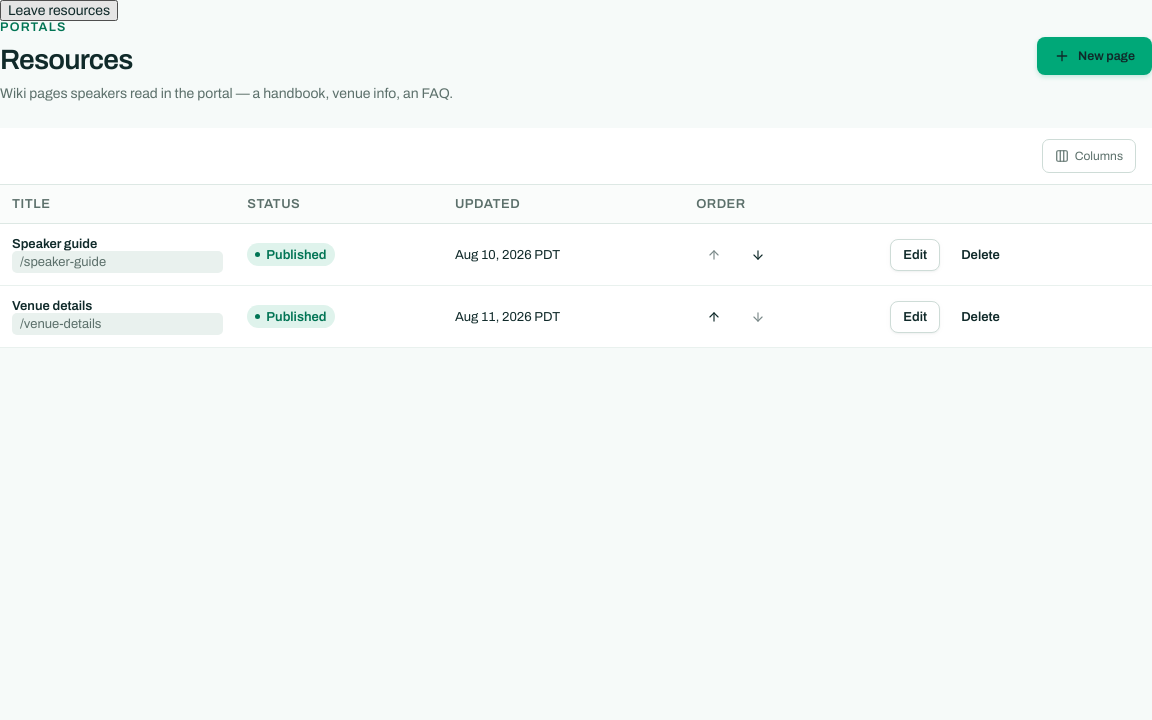
resource page deletion recovery › treats malformed success as ambiguous and lets an authoritative Check settle current absence without another delete
What coordinates should you click on to do the following:
click the button "Delete" in the row of "Speaker guide"
I would click on:
 (981, 254)
Its box is [948,238,1013,270].
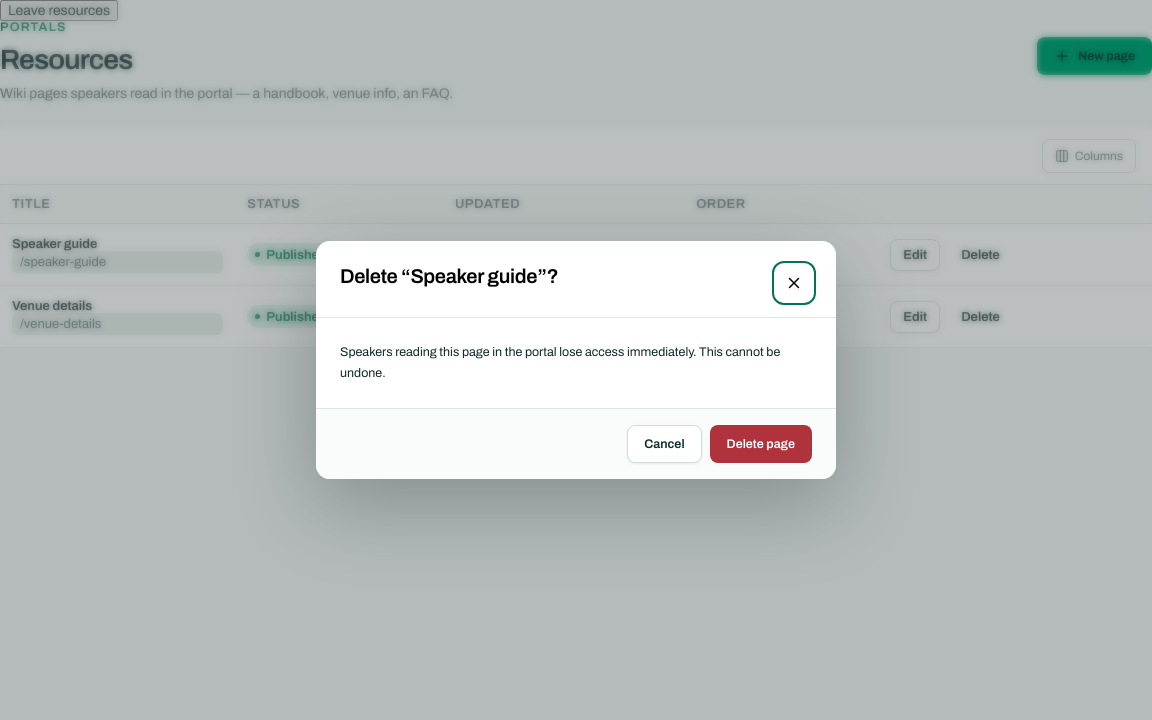
What coordinates should you click on to do the following:
click the button "Delete page"
I would click on:
 (761, 444)
Its box is [710,425,812,463].
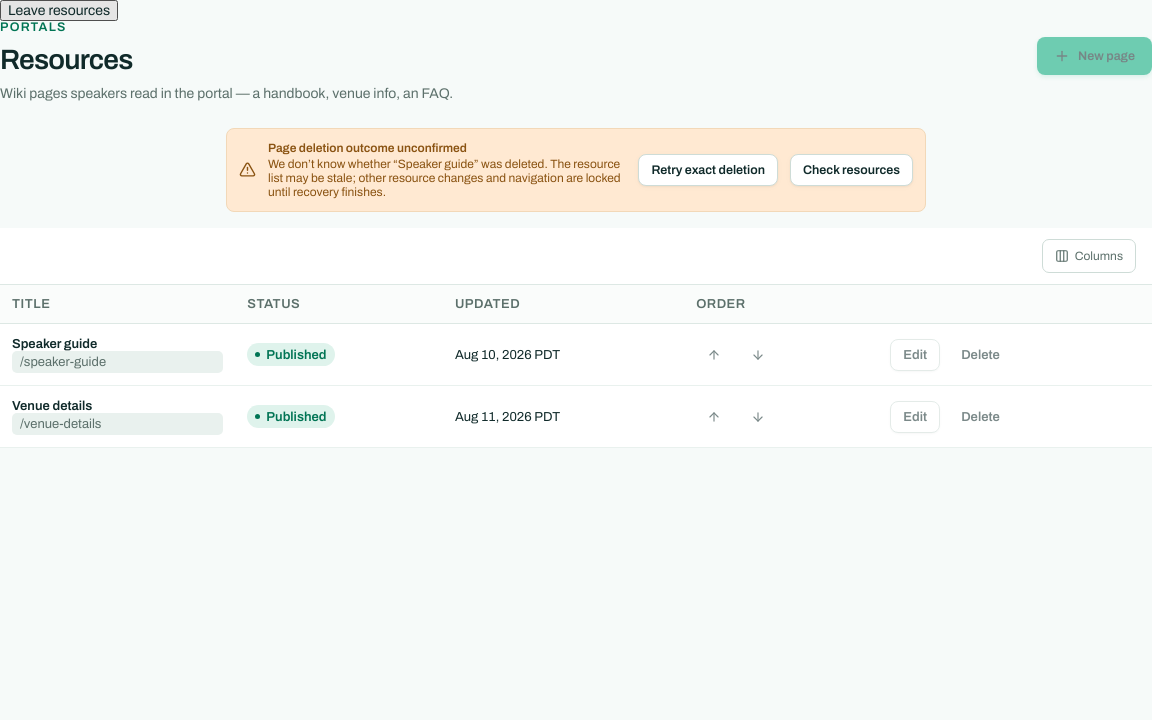
Now the text "Page deletion outcome unconfirmed" is shown, box [268,140,467,154]
What coordinates should you click on to do the following:
click the button "Check resources"
I would click on:
 (852, 170)
Its box is [790,154,913,186].
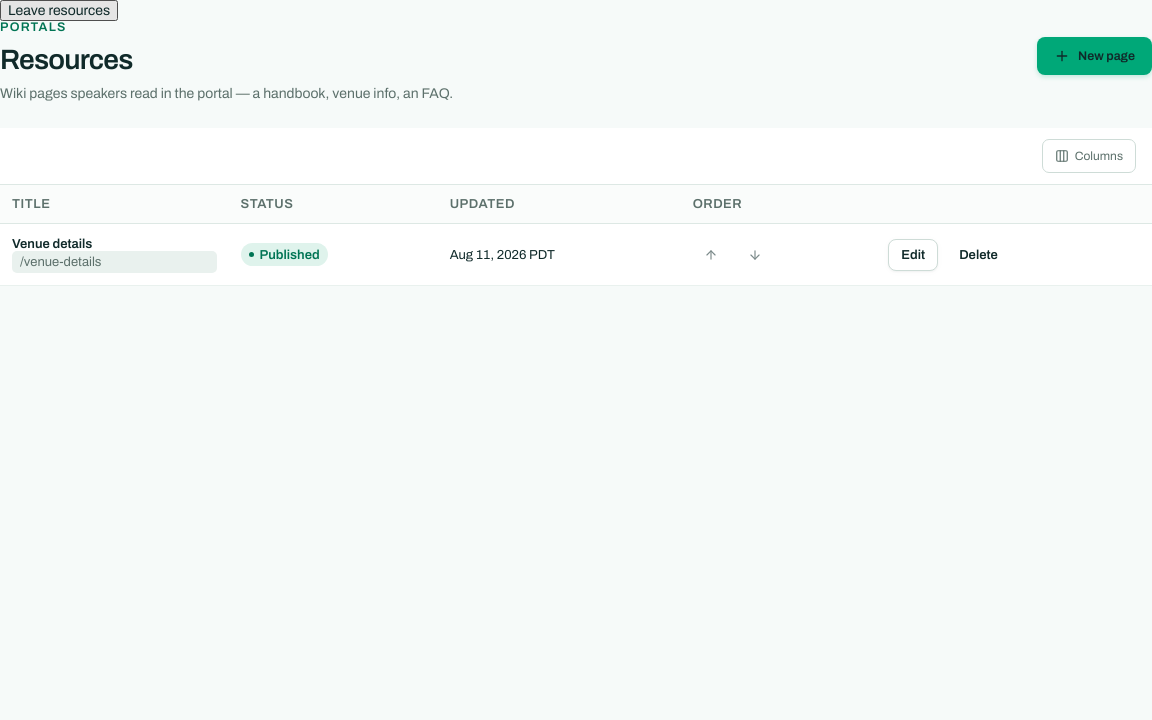
Now the text "Page deletion outcome unconfirmed" is gone
Now the text "Speaker guide" is gone
